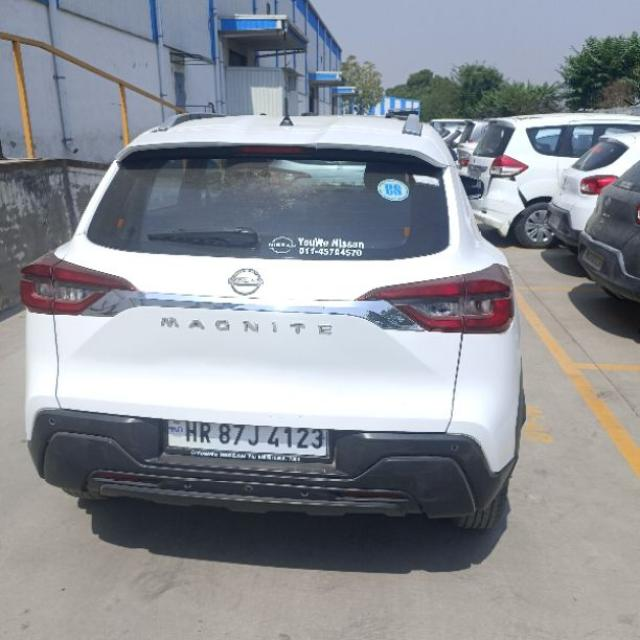license_plate: (162, 418, 333, 464)
